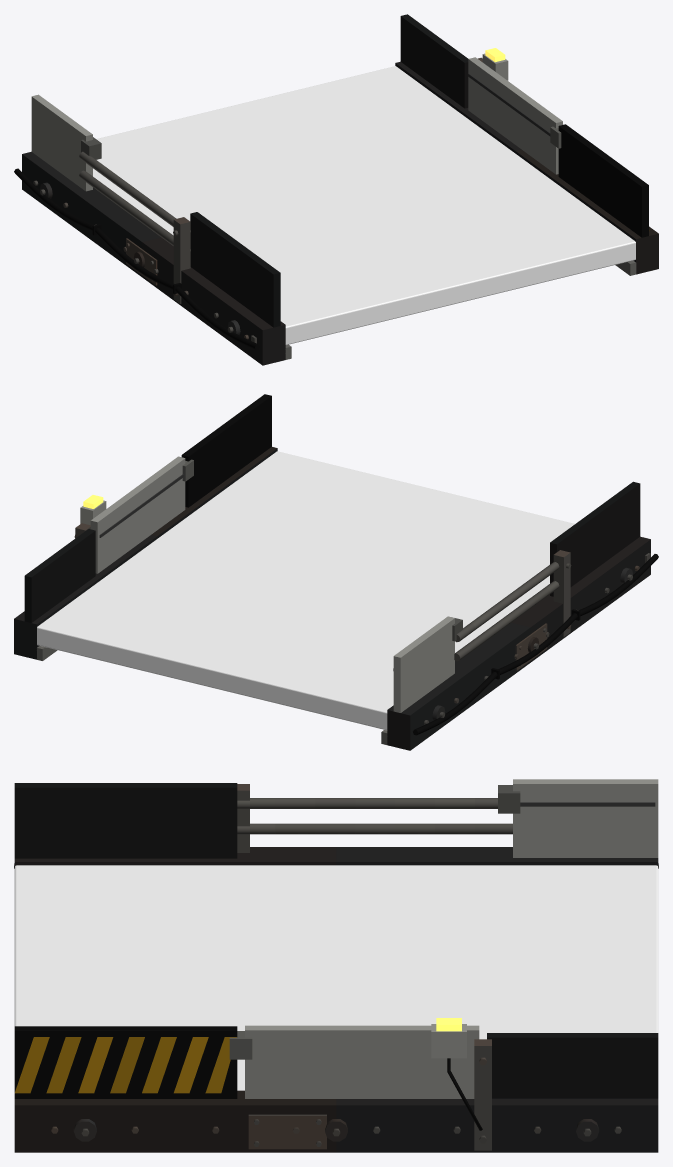
File: conveyor_straight.glb
3 views of the same model, one above another, from view 1: azimuth 30°, elevation 25°; view 2: azimuth 150°, elevation 25°; view 3: azimuth 270°, elevation 25° (orthographic). The views are drawn at different scales.
Parts seen in each view (by area): view 1: Belt, Frame; view 2: Belt, Frame; view 3: Frame, Belt.
Part boxes in pixels (<box>): Belt: <box>93,66,635,345</box>; Frame: <box>14,14,658,365</box>; Belt: <box>37,451,574,730</box>; Frame: <box>14,394,658,750</box>; Frame: <box>14,779,658,1152</box>; Belt: <box>14,865,658,1090</box>.
Size of the model in its own units: 1.98 by 0.4475 by 2.
